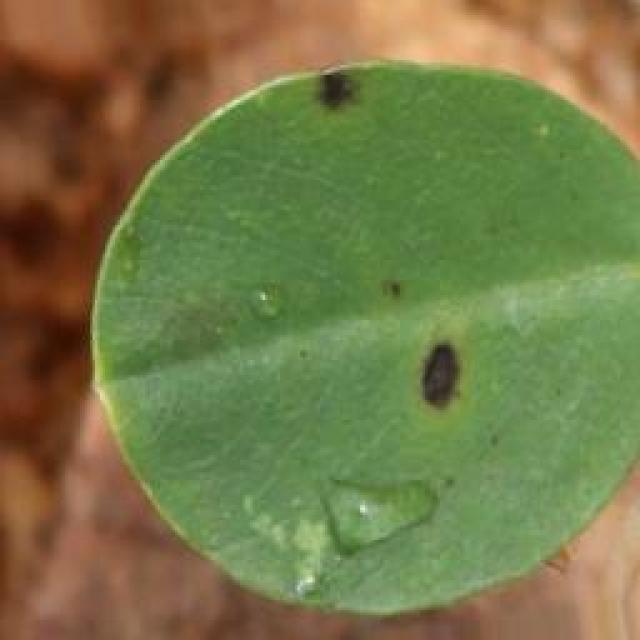Yellowish: (334, 221, 498, 419), (280, 0, 382, 210)
